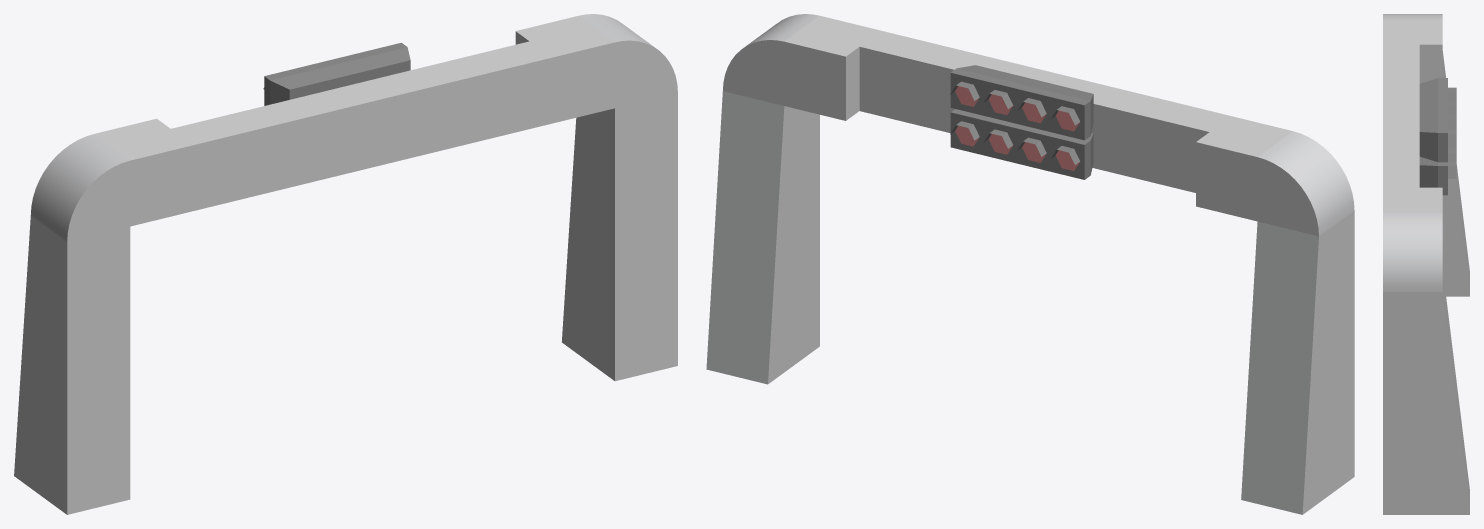
File: overhead_lights.glb
The picture shows the model from 3 angles, left to right: view 1: azimuth 30°, elevation 25°; view 2: azimuth 150°, elevation 25°; view 3: azimuth 270°, elevation 25°; orthographic projection. The views are drawn at different scales.
Visible parts, largest first — view 1: overheadLights; view 2: overheadLights; view 3: overheadLights.
Boxes of the visible parts, x1,y1,x2,y2 form: overheadLights: (14, 14, 677, 514); overheadLights: (706, 14, 1354, 514); overheadLights: (1383, 14, 1469, 514).
Bounding box in the file's own units: 1.26 × 0.6939 × 0.19.
